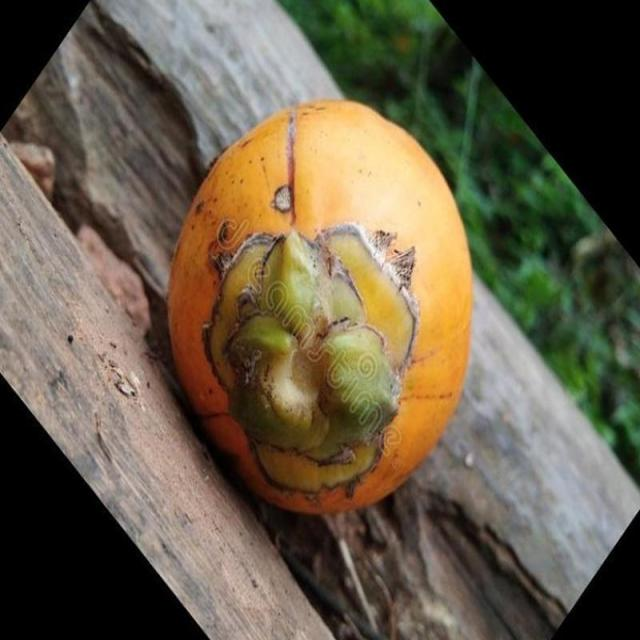good: (165, 100, 475, 523)
